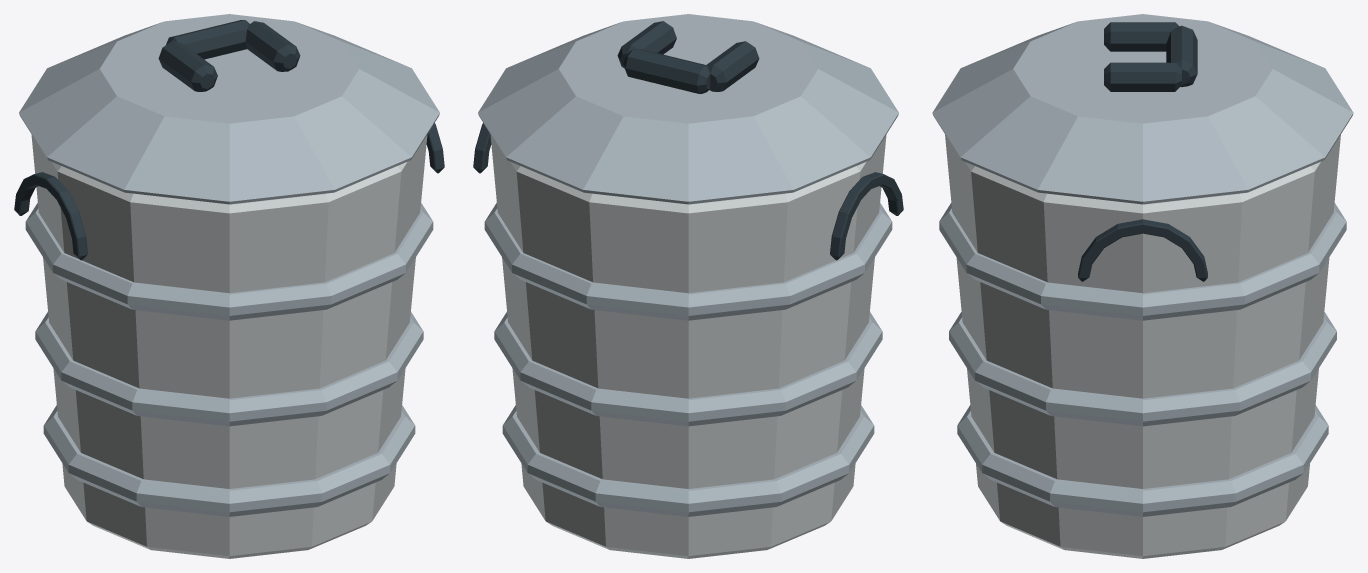
File: b04_galvanized_ash_can.glb
3 renders of one model, left to right at view 1: azimuth 30°, elevation 25°; view 2: azimuth 150°, elevation 25°; view 3: azimuth 270°, elevation 25°, orthographic.
Visible parts, largest first — view 1: b04_galvanized_ash_can; view 2: b04_galvanized_ash_can; view 3: b04_galvanized_ash_can.
Boxes of the visible parts, <box> form: b04_galvanized_ash_can: <box>14,14,444,558</box>; b04_galvanized_ash_can: <box>473,14,903,558</box>; b04_galvanized_ash_can: <box>932,14,1353,558</box>.
Size of the model in its own units: 0.4893 by 0.573 by 0.4868.
